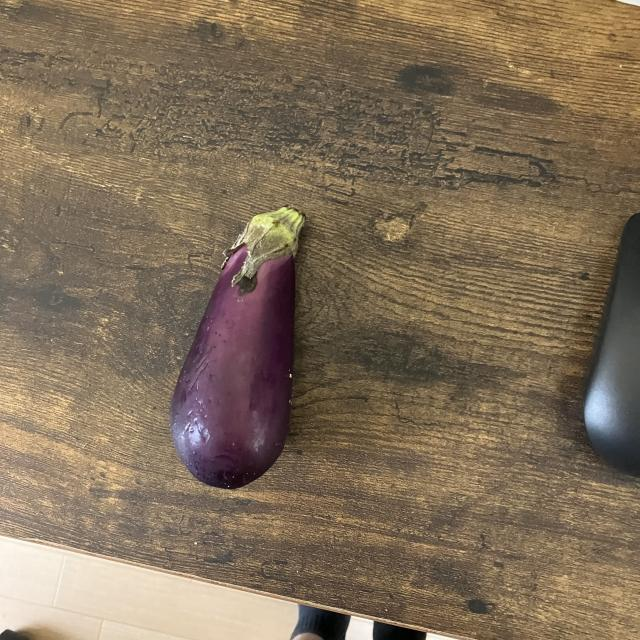eggplant: (165, 203, 308, 495)
